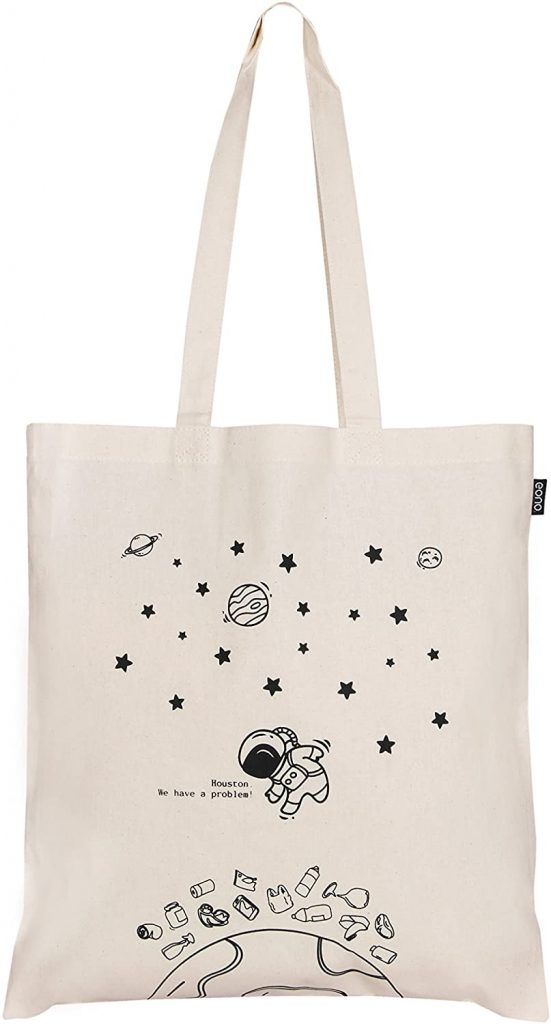cartera: (1, 1, 549, 1021)
tela: (77, 736, 244, 884)
